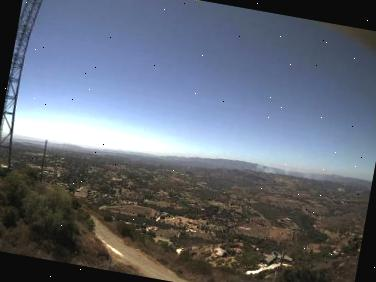smoke: (247, 154, 330, 186)
